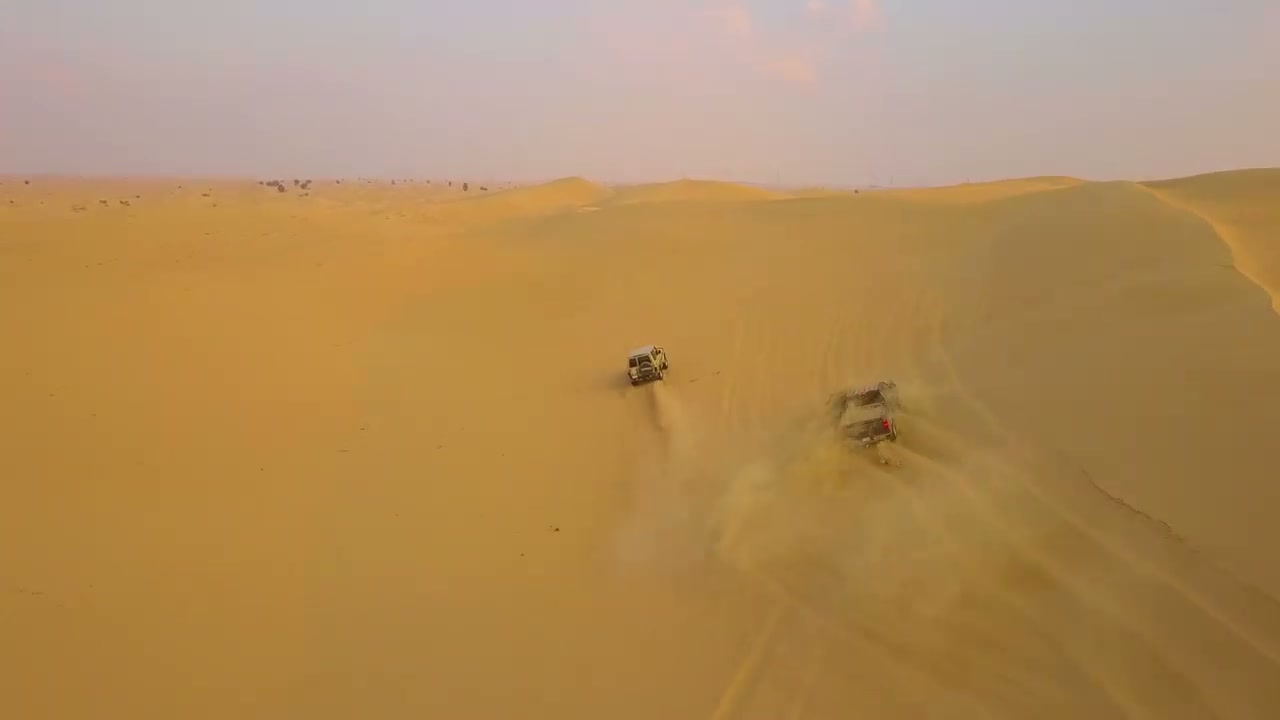vehicle_track: (911, 400, 1279, 719)
